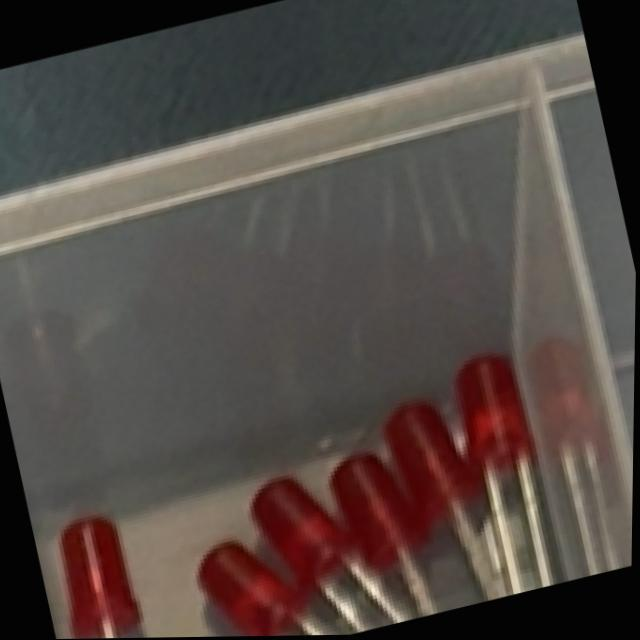RED_LED: (245, 450, 410, 636), (444, 345, 564, 598), (372, 379, 499, 617), (320, 434, 443, 632), (192, 519, 340, 637)
